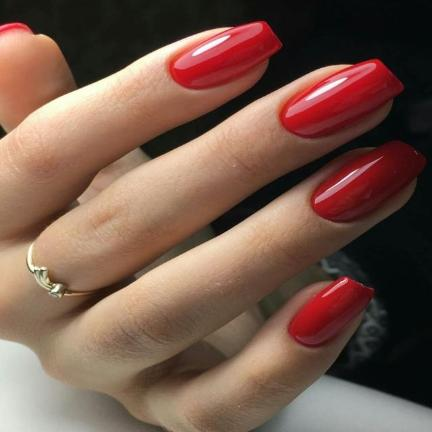Nail: (280, 58, 404, 139), (311, 140, 426, 222), (169, 21, 283, 90), (288, 275, 375, 348)
